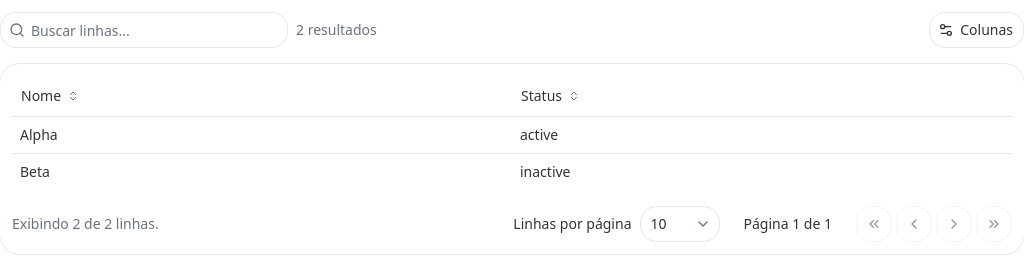
Test: DataTable › uses the provided empty states for business-specific scenarios
Type "missing" into the field labelled "Buscar linhas..." at (156, 30), box [25,12,287,48]
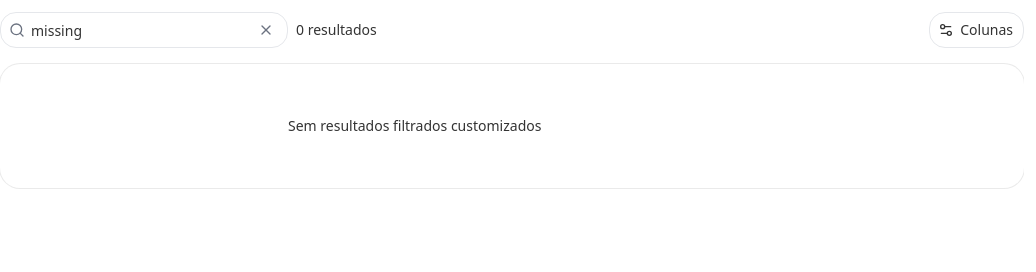
Now the text "Sem resultados filtrados customizados" is shown, box [288,116,541,135]
